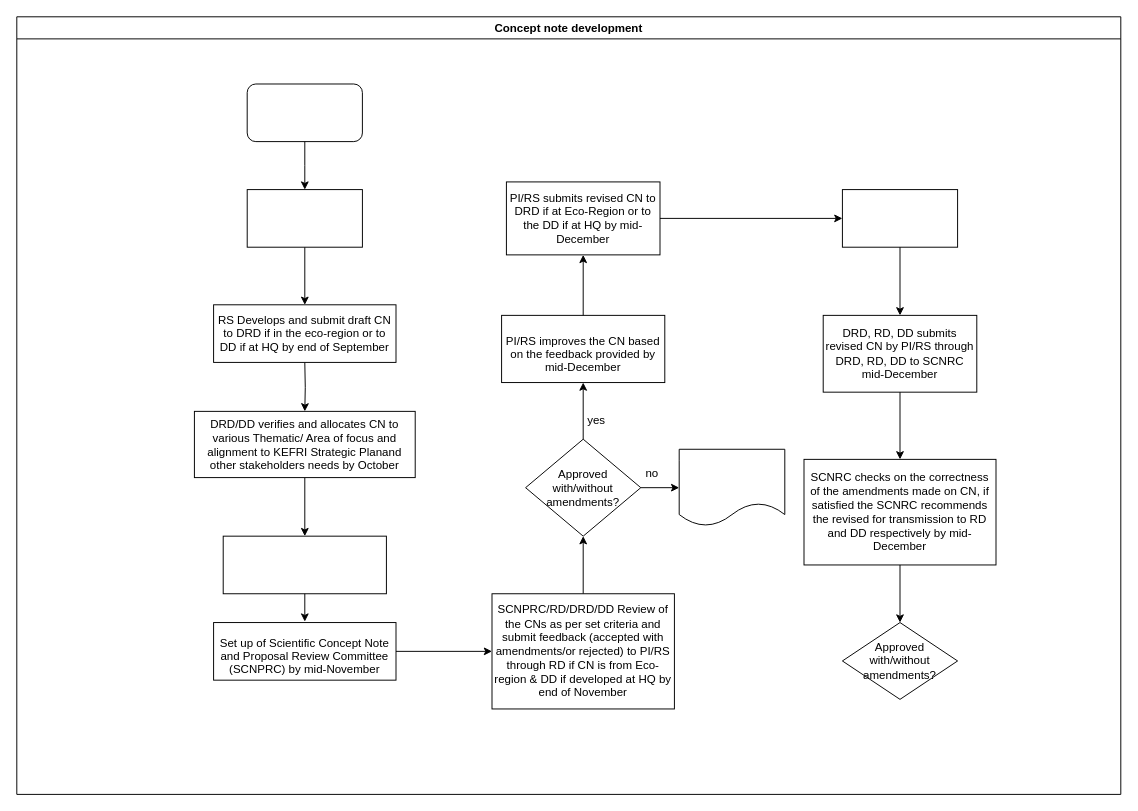
This 1138x811 diagram has some shape labels left out. The shapes that lost their labels are listed below. From the top down, each one's centre as x and y in pixels, then its label:
At pixel 304 112: "Start".
At pixel 304 218: "SDDRD calls for CN development by end of August".
At pixel 899 218: "DD submits revised CN to RS at HQ mid-December".
At pixel 731 487: "Rejection comments/ feedback".
At pixel 304 564: "DRD Submits verified CN to regional Director (RD) by end of October".
